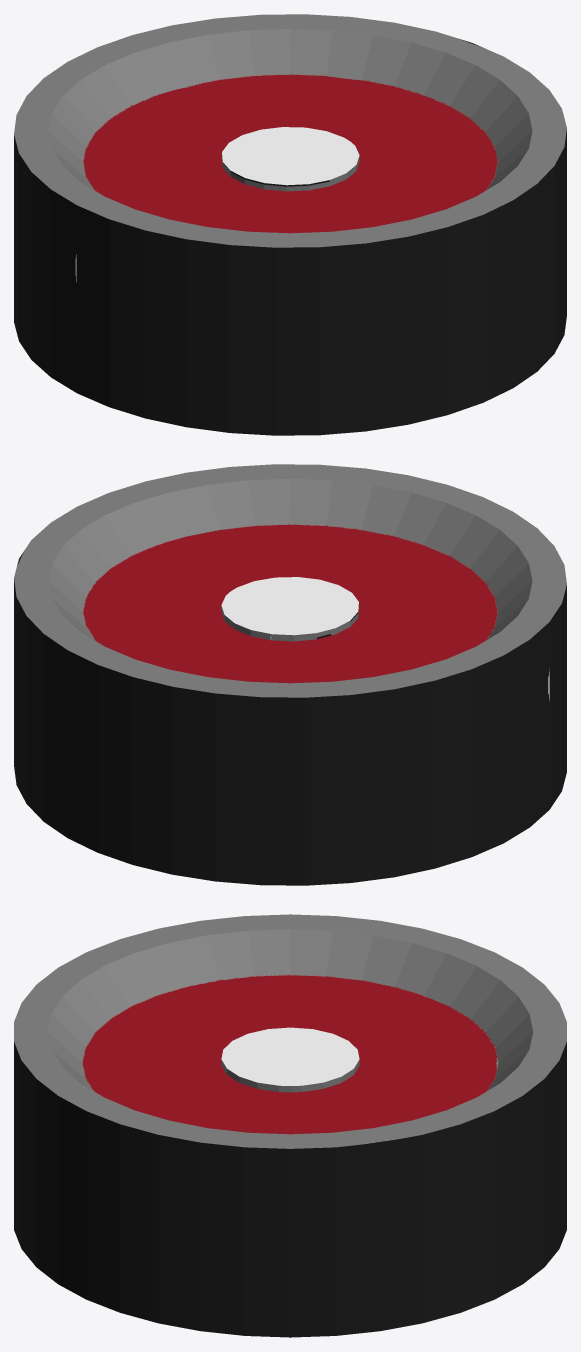
The model's file is left_rear_wheel.dae.
3 renders of one model, top to bottom at view 1: azimuth 30°, elevation 25°; view 2: azimuth 150°, elevation 25°; view 3: azimuth 270°, elevation 25°, orthographic.
Visible parts, largest first — view 1: left_rear_wheel; view 2: left_rear_wheel; view 3: left_rear_wheel.
Part boxes in pixels (x1,y1,x2,y2): left_rear_wheel: [14, 14, 566, 435]; left_rear_wheel: [14, 464, 566, 885]; left_rear_wheel: [14, 914, 566, 1337].
Bounding box in the file's own units: 0.2032 × 0.2025 × 0.0762.
Materials: 1 (1 with a texture image).
